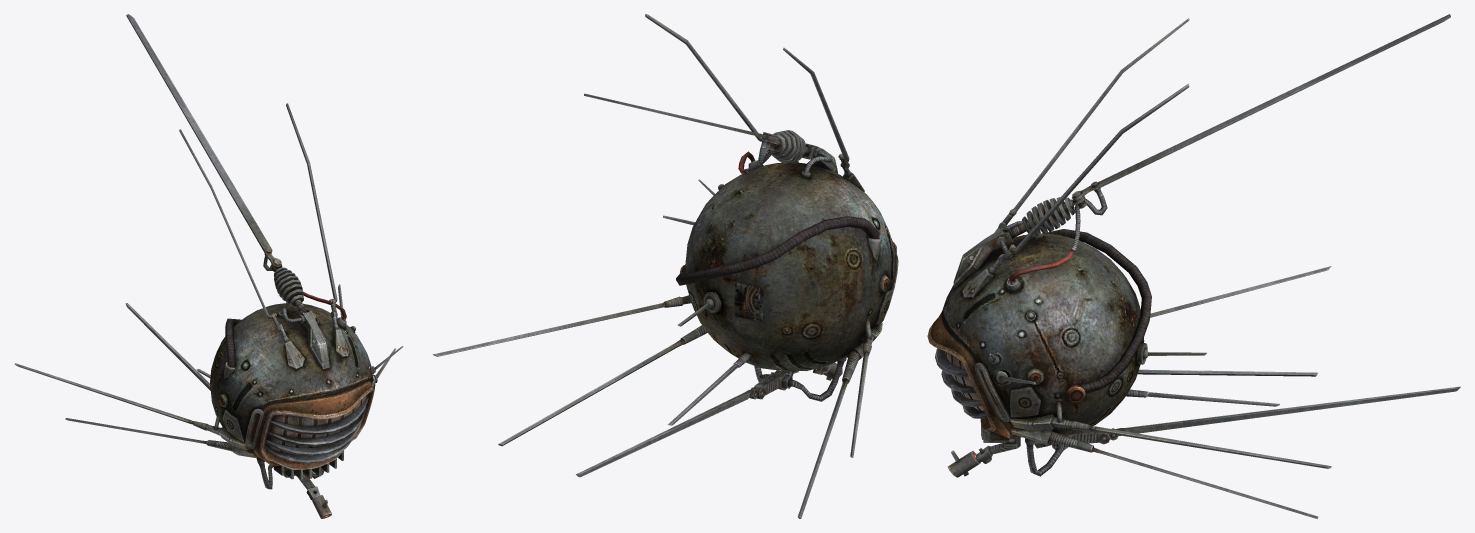
The model's file is eyebot.glb.
3 renders of one model, left to right at view 1: azimuth 30°, elevation 25°; view 2: azimuth 150°, elevation 25°; view 3: azimuth 270°, elevation 25°, orthographic. The views are drawn at different scales.
Visible parts, largest first — view 1: Eyebot:0; view 2: Eyebot:0, Eyebot:1; view 3: Eyebot:0.
Part boxes in pixels (x1,y1,x2,y2): Eyebot:0: (14, 14, 403, 518); Eyebot:0: (432, 14, 898, 518); Eyebot:1: (734, 283, 762, 322); Eyebot:0: (927, 14, 1460, 518).
Bounding box in the file's own units: 0.4319 × 0.46 × 0.4825.
Materials: 3 (3 with a texture image).
